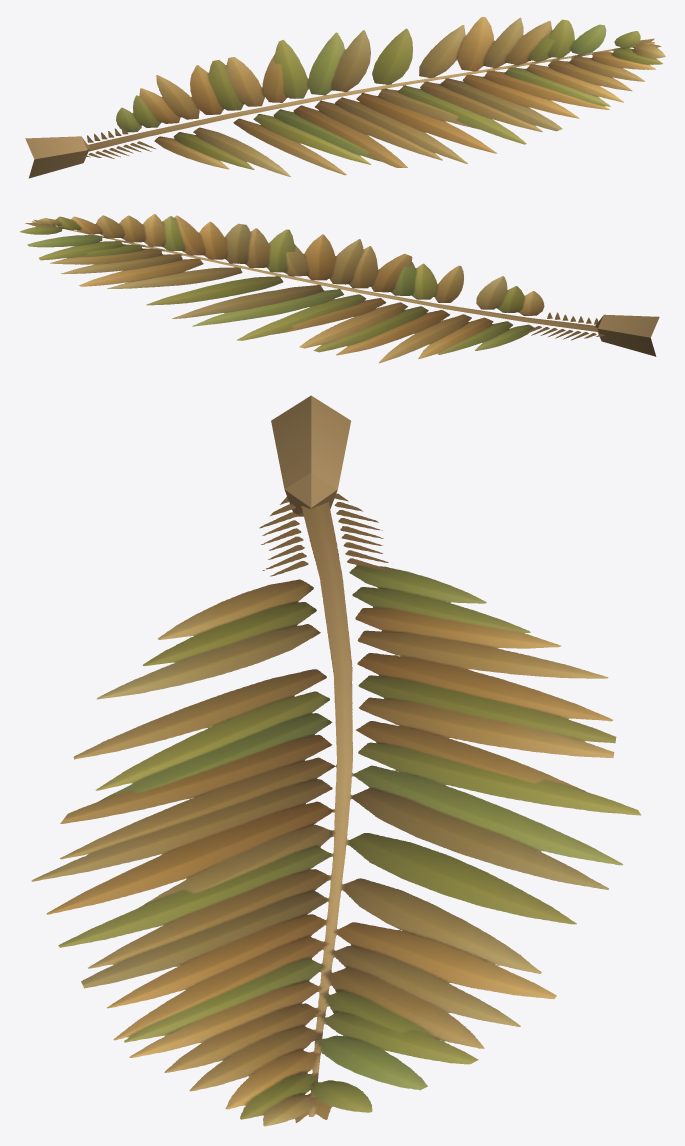
The model's file is frond_fallen.glb.
The picture shows the model from 3 angles, top to bottom: view 1: azimuth 30°, elevation 25°; view 2: azimuth 150°, elevation 25°; view 3: azimuth 270°, elevation 25°; orthographic projection. The views are drawn at different scales.
Parts seen in each view (by area): view 1: frond_fallen_mesh; view 2: frond_fallen_mesh; view 3: frond_fallen_mesh.
Boxes of the visible parts, x1,y1,x2,y2 form: frond_fallen_mesh: (25,17,665,178); frond_fallen_mesh: (20,214,659,363); frond_fallen_mesh: (31,395,641,1126).
Bounding box in the file's own units: 2.59 × 0.2547 × 1.17.
Materials: 2 (1 with a texture image).
